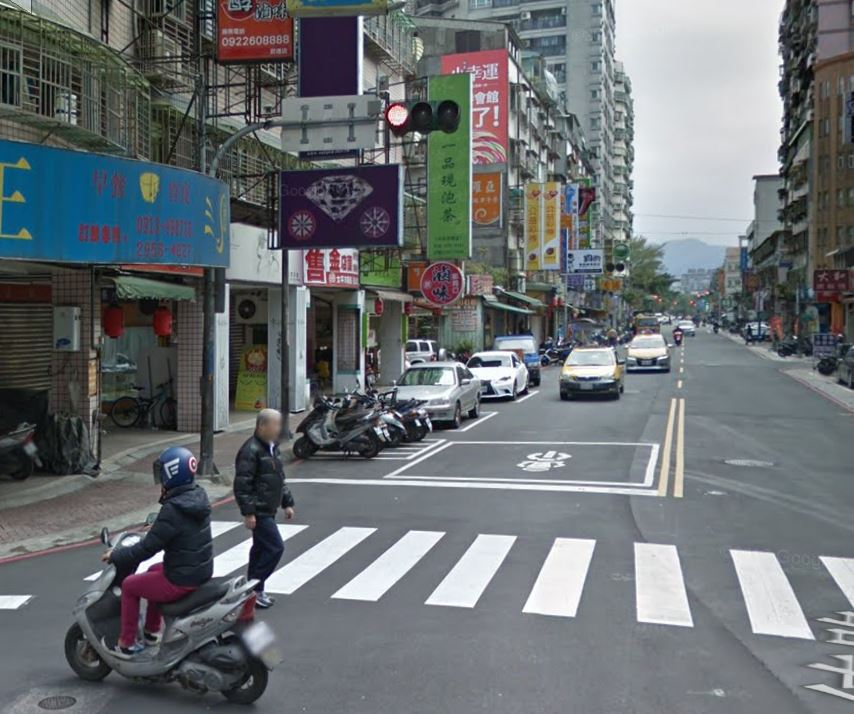Traffic_light_red: (381, 101, 462, 132)
